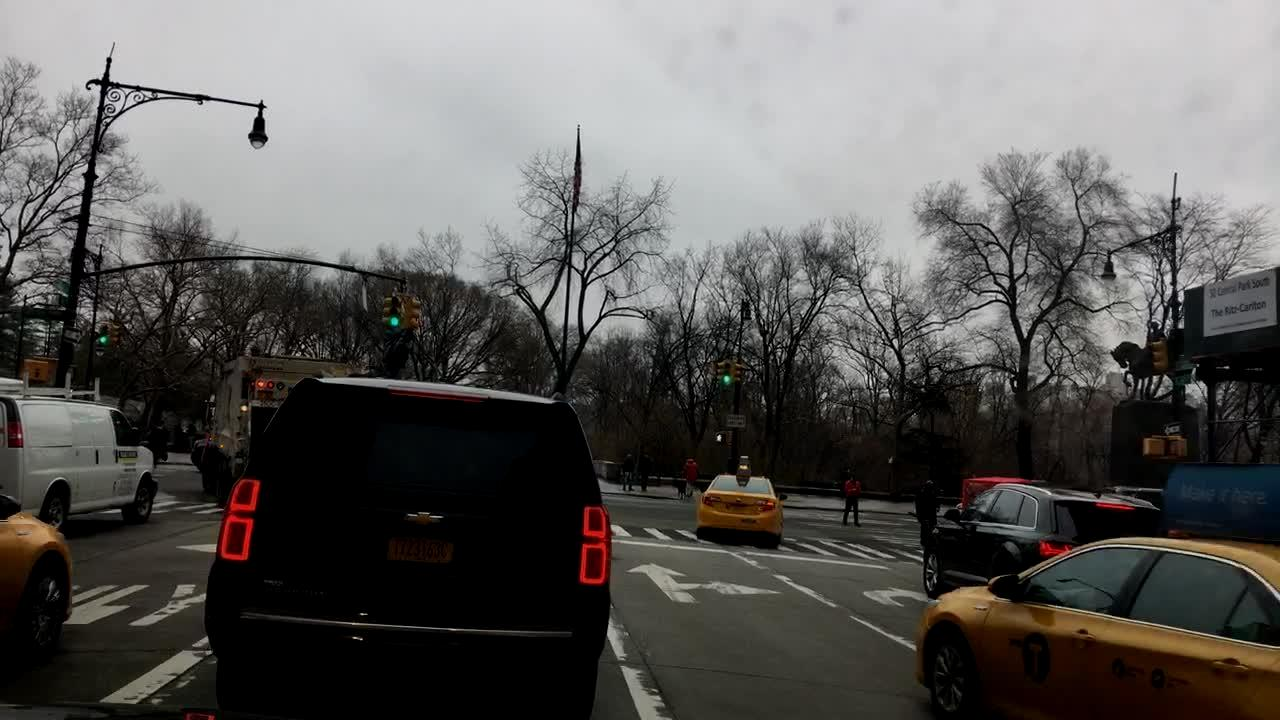chevrolet: (400, 508, 447, 532)
